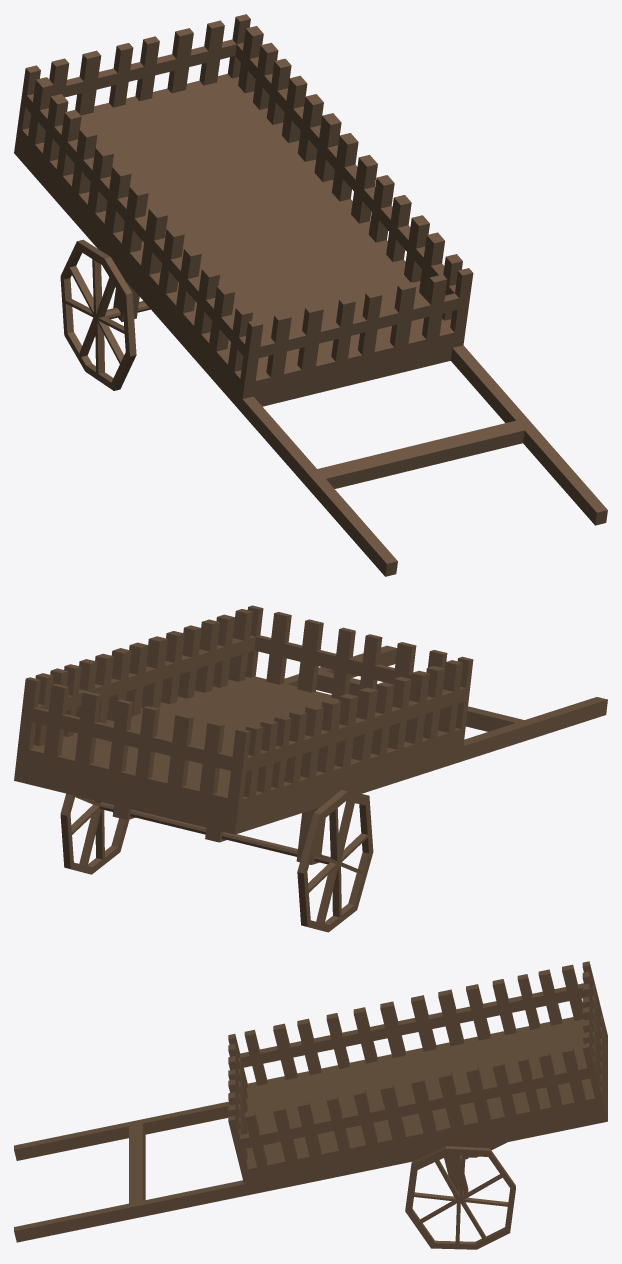
Rendered from Cart.fbx.
The picture shows the model from 3 angles, top to bottom: view 1: azimuth 30°, elevation 25°; view 2: azimuth 150°, elevation 25°; view 3: azimuth 270°, elevation 25°; orthographic projection. The views are drawn at different scales.
Parts seen in each view (by area): view 1: Cube.003; view 2: Cube.003; view 3: Cube.003.
Boxes of the visible parts, x1,y1,x2,y2 form: Cube.003: [14, 14, 607, 576]; Cube.003: [14, 605, 607, 932]; Cube.003: [14, 961, 607, 1249].
Size of the model in its own units: 686 by 671 by 1820.
